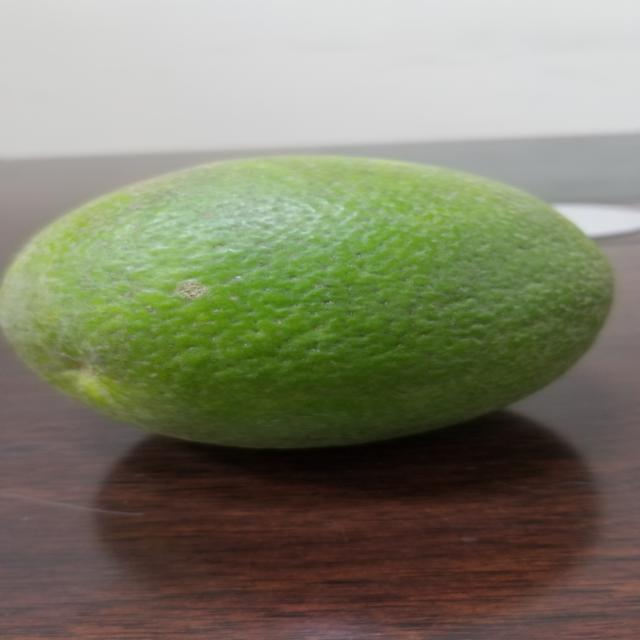Ripe orange: (3, 146, 640, 454)
